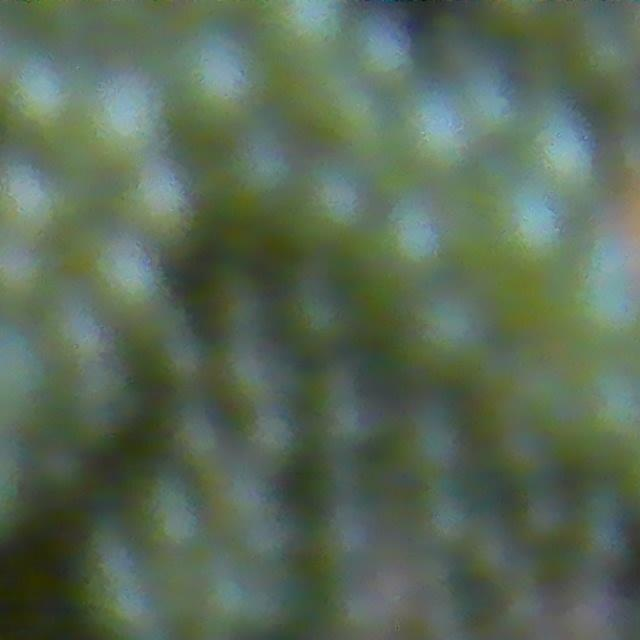SeaGrape: (161, 38, 259, 141), (390, 298, 486, 390), (552, 256, 640, 349), (479, 185, 560, 285), (293, 76, 379, 166), (79, 78, 156, 170), (294, 159, 372, 248), (83, 233, 162, 317), (393, 91, 474, 172), (516, 114, 598, 193), (214, 134, 288, 219), (116, 169, 200, 241), (0, 59, 74, 139), (379, 205, 460, 276), (397, 401, 466, 479), (455, 71, 522, 147), (578, 366, 640, 447), (265, 0, 347, 58), (43, 299, 108, 364), (0, 155, 51, 234), (350, 15, 411, 80), (0, 237, 45, 310)
